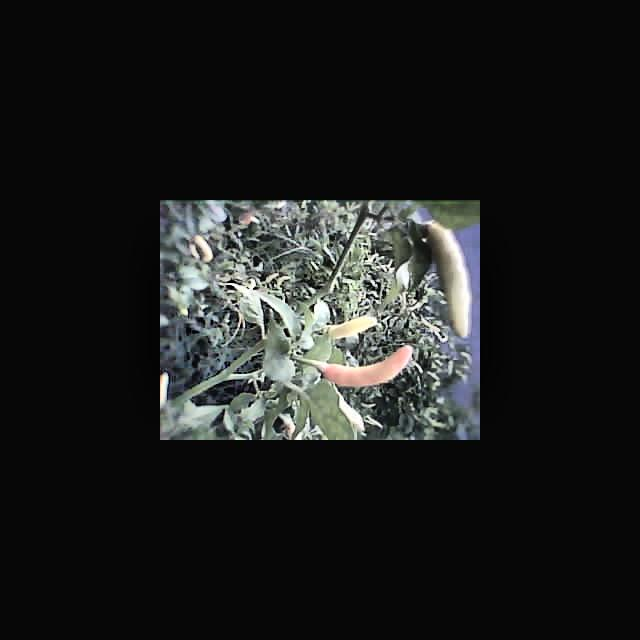Cabai: (310, 343, 415, 392)
